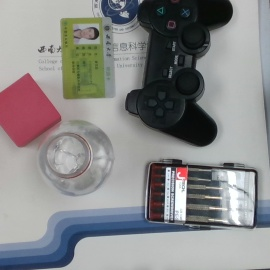bottle: (39, 118, 114, 198)
card: (59, 15, 118, 100)
remote: (125, 1, 233, 149)
